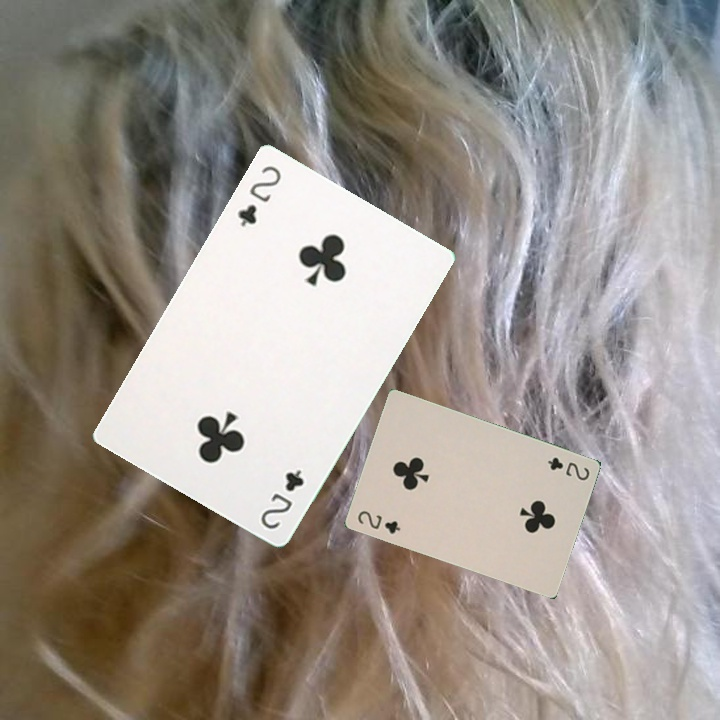2c: (233, 161, 284, 230), (256, 465, 307, 532), (353, 506, 403, 536), (543, 453, 592, 483)
